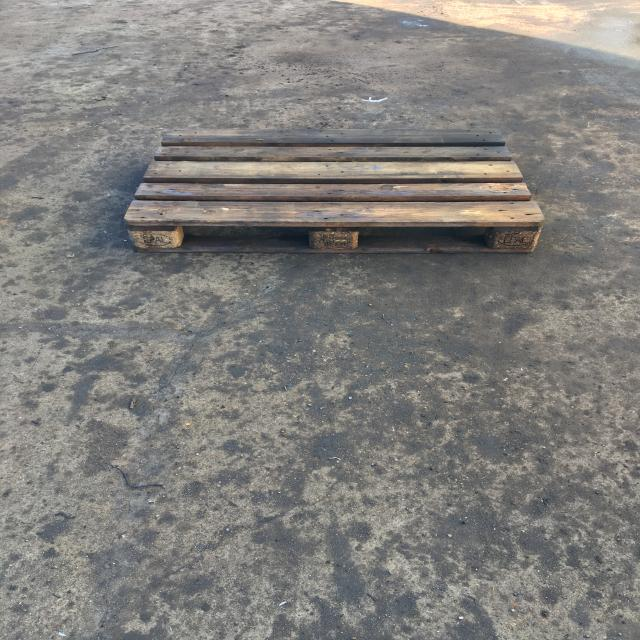block: (121, 221, 188, 256), (310, 225, 365, 256), (489, 225, 542, 252)
front: (115, 215, 546, 255)
